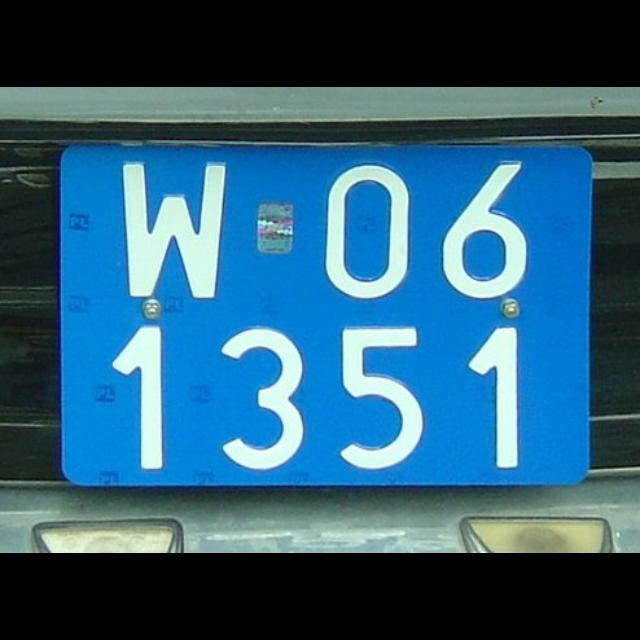pl_license_plate: (61, 144, 586, 482)
